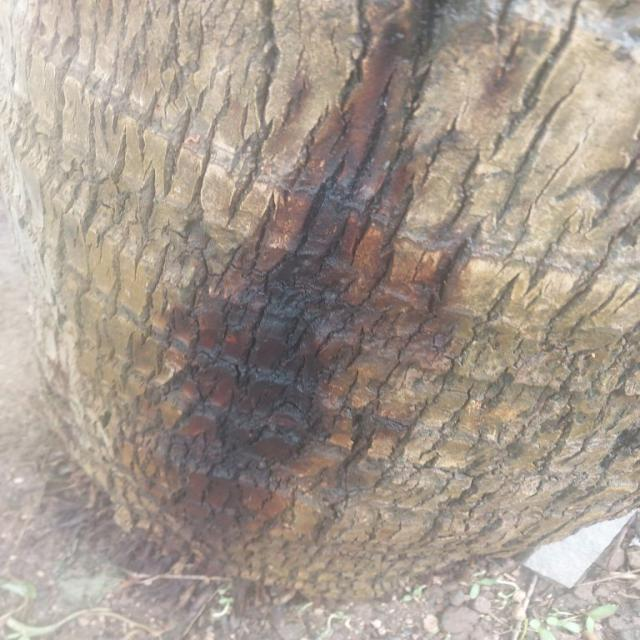stembleeding: (99, 19, 546, 558)
